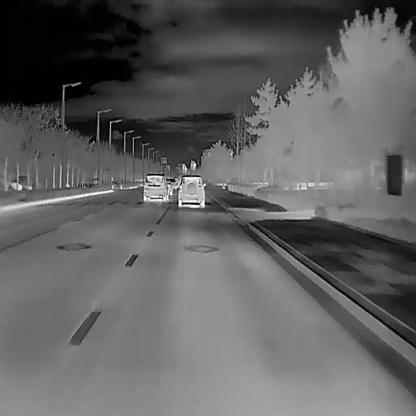car: (178, 175, 206, 207), (142, 172, 169, 201), (164, 176, 178, 188), (164, 180, 172, 195)
